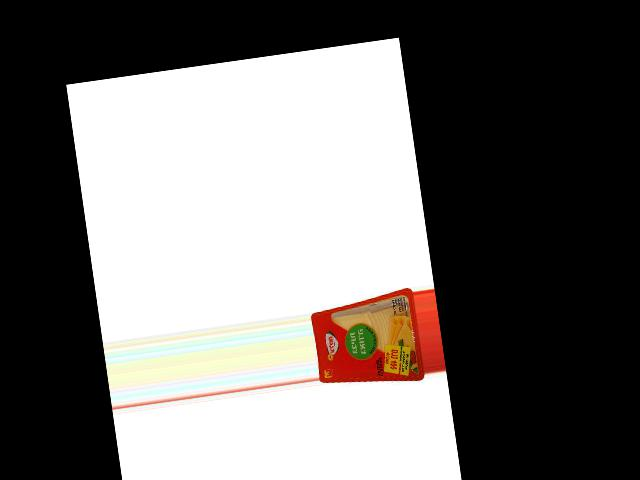cheese: (309, 287, 425, 394)
